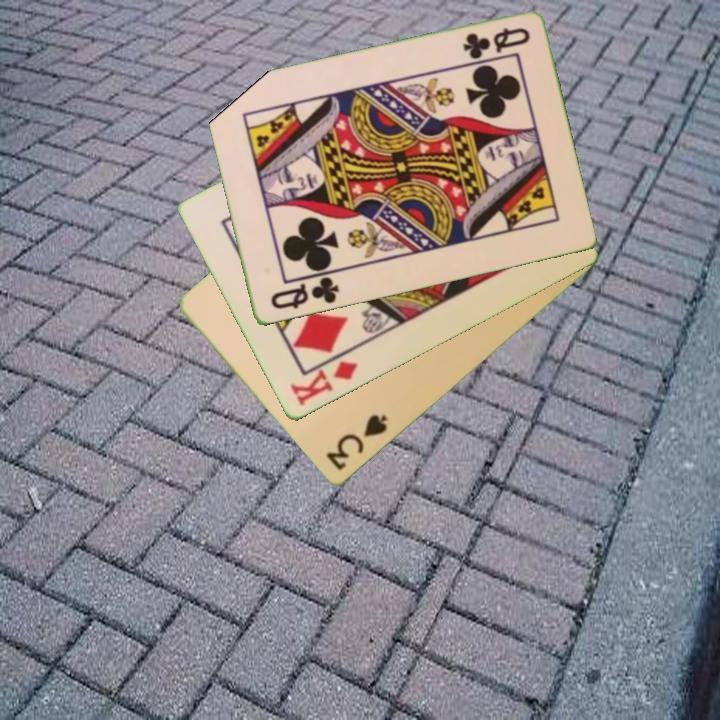3s: (322, 411, 391, 474)
Kd: (286, 357, 361, 410)
Qc: (266, 273, 342, 313), (458, 24, 533, 62)
